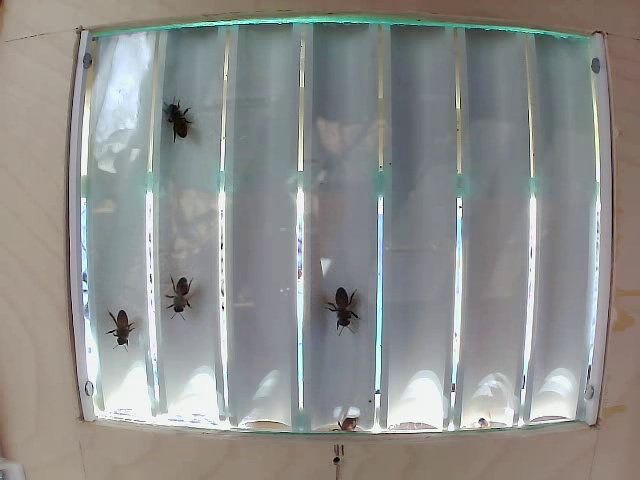bee: (304, 270, 361, 329), (156, 88, 197, 141), (92, 301, 136, 339), (159, 266, 191, 317)
